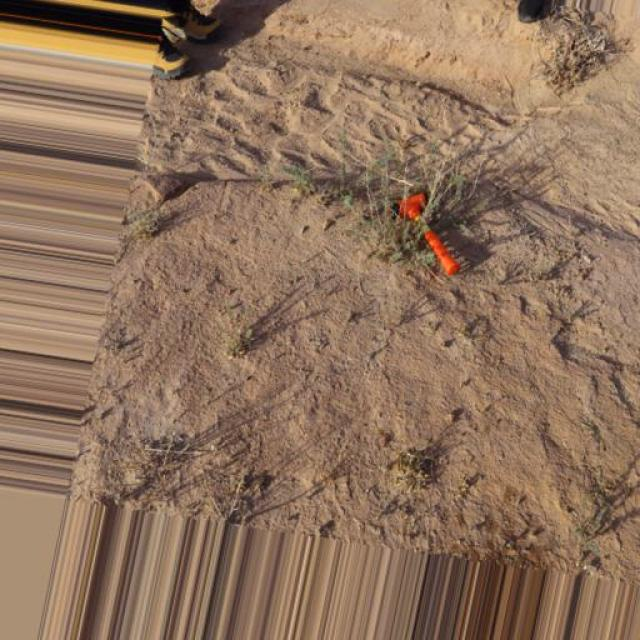mallet: (395, 190, 460, 276)
